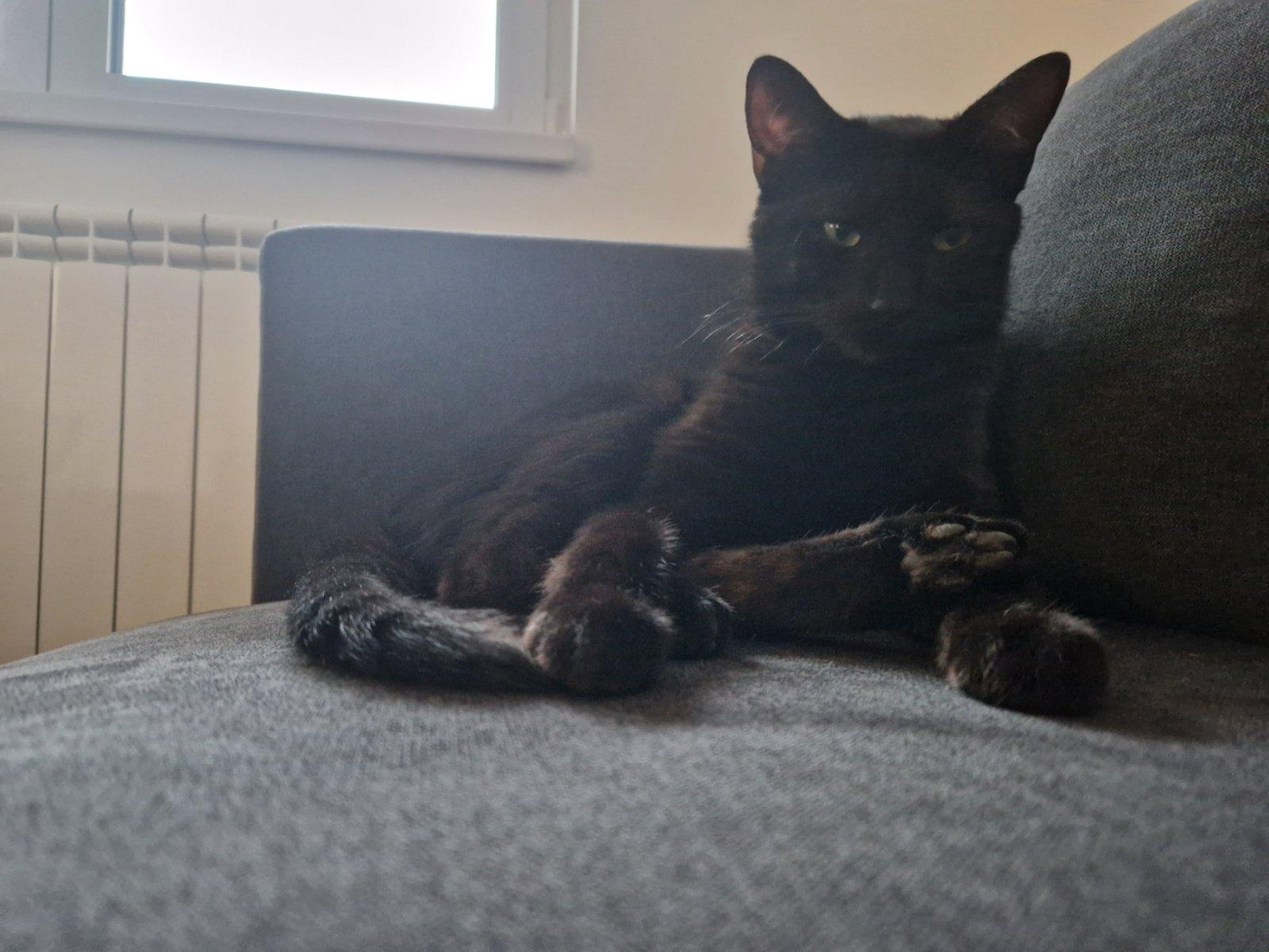macka: (289, 54, 1110, 717)
